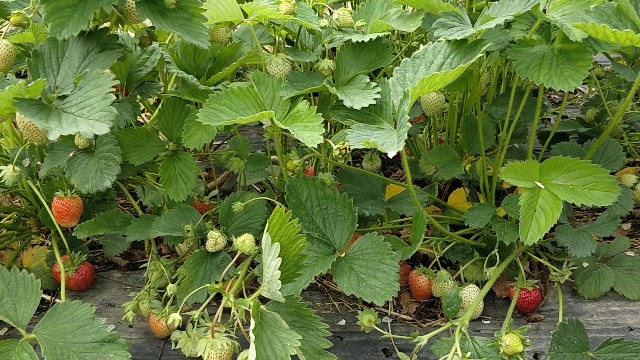strawberry: (51, 251, 94, 292), (507, 279, 543, 317)
